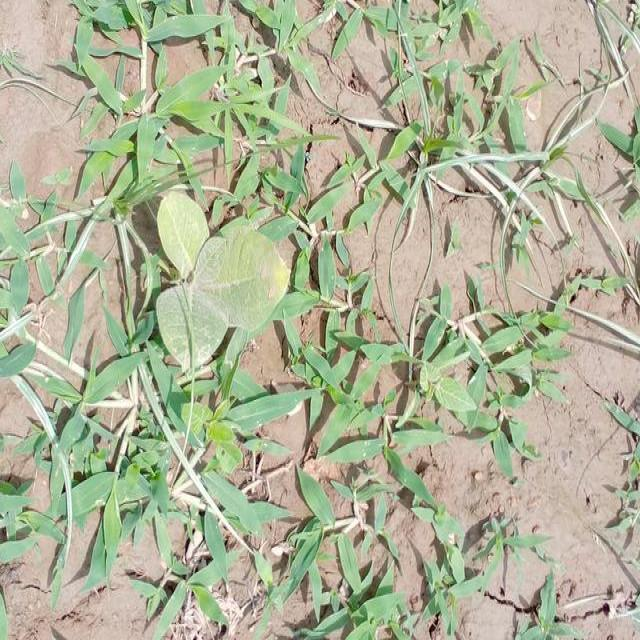crop: (152, 178, 288, 382)
